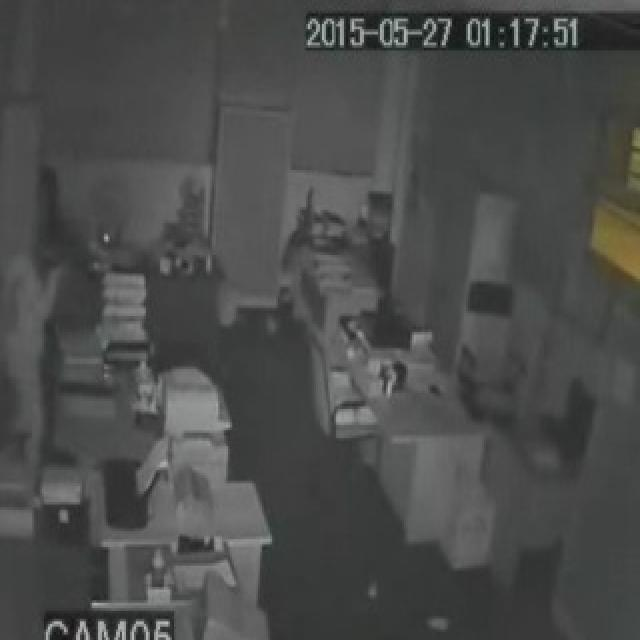thief: (15, 234, 76, 343)
